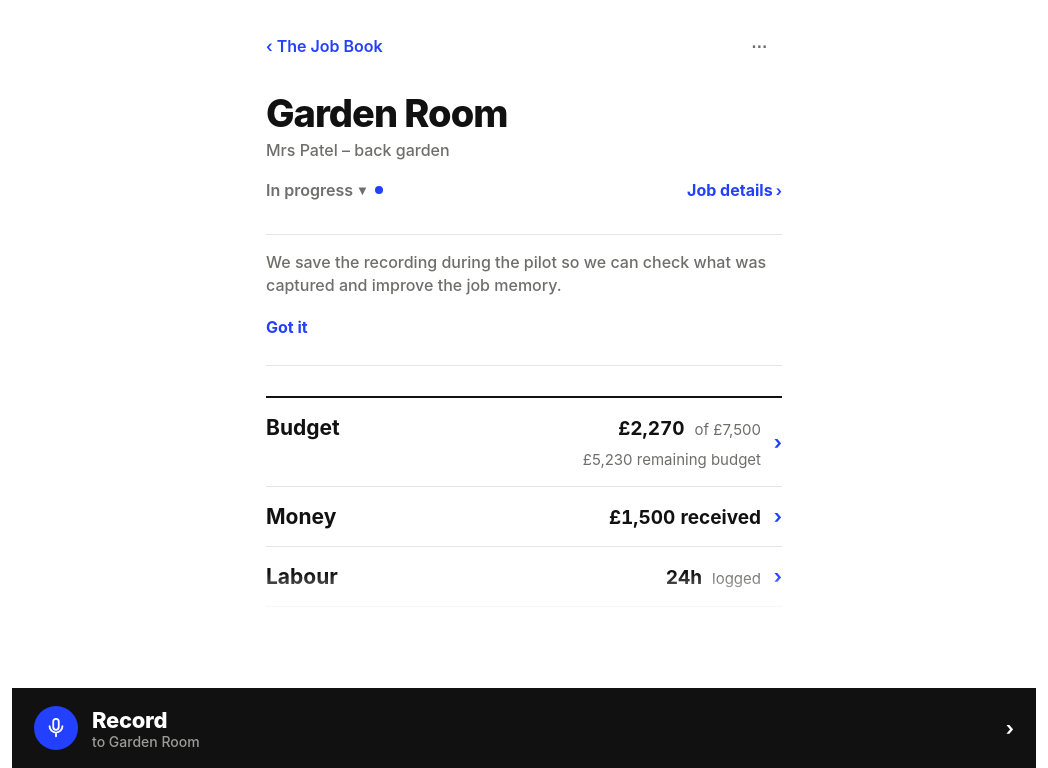
Workshop across jobs › shows the count and a taste of what is in there on Book Home
Click the button "‹ The Job Book": [324, 46] box [266, 24, 383, 68]
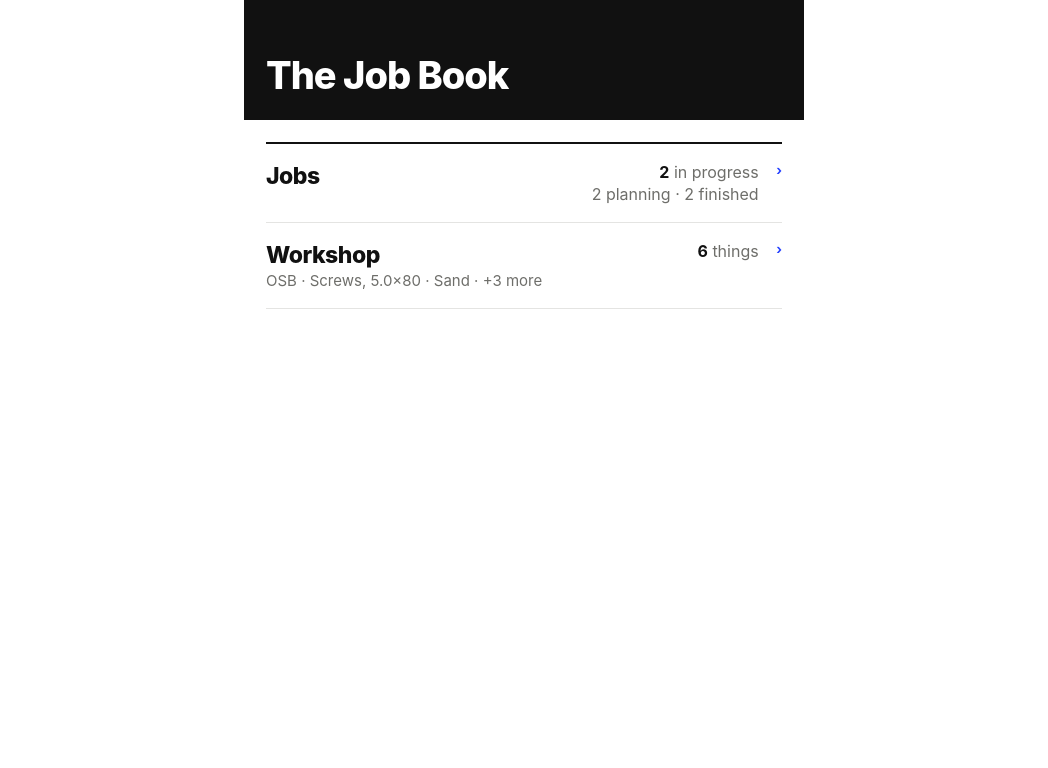
Expected: the heading "The Job Book" is shown, [266, 52, 508, 98]
Now the button "Workshop OSB · Screws, 5.0×80 · Sand · +3 more 6 things ›" is shown, box [266, 223, 782, 309]
